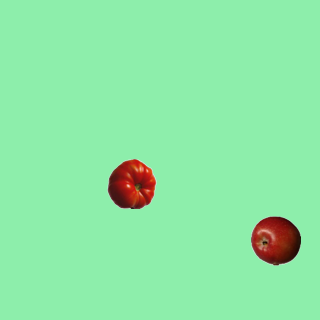Apple Braeburn: (250, 215, 300, 265)
Tomato 3: (106, 158, 156, 208)
